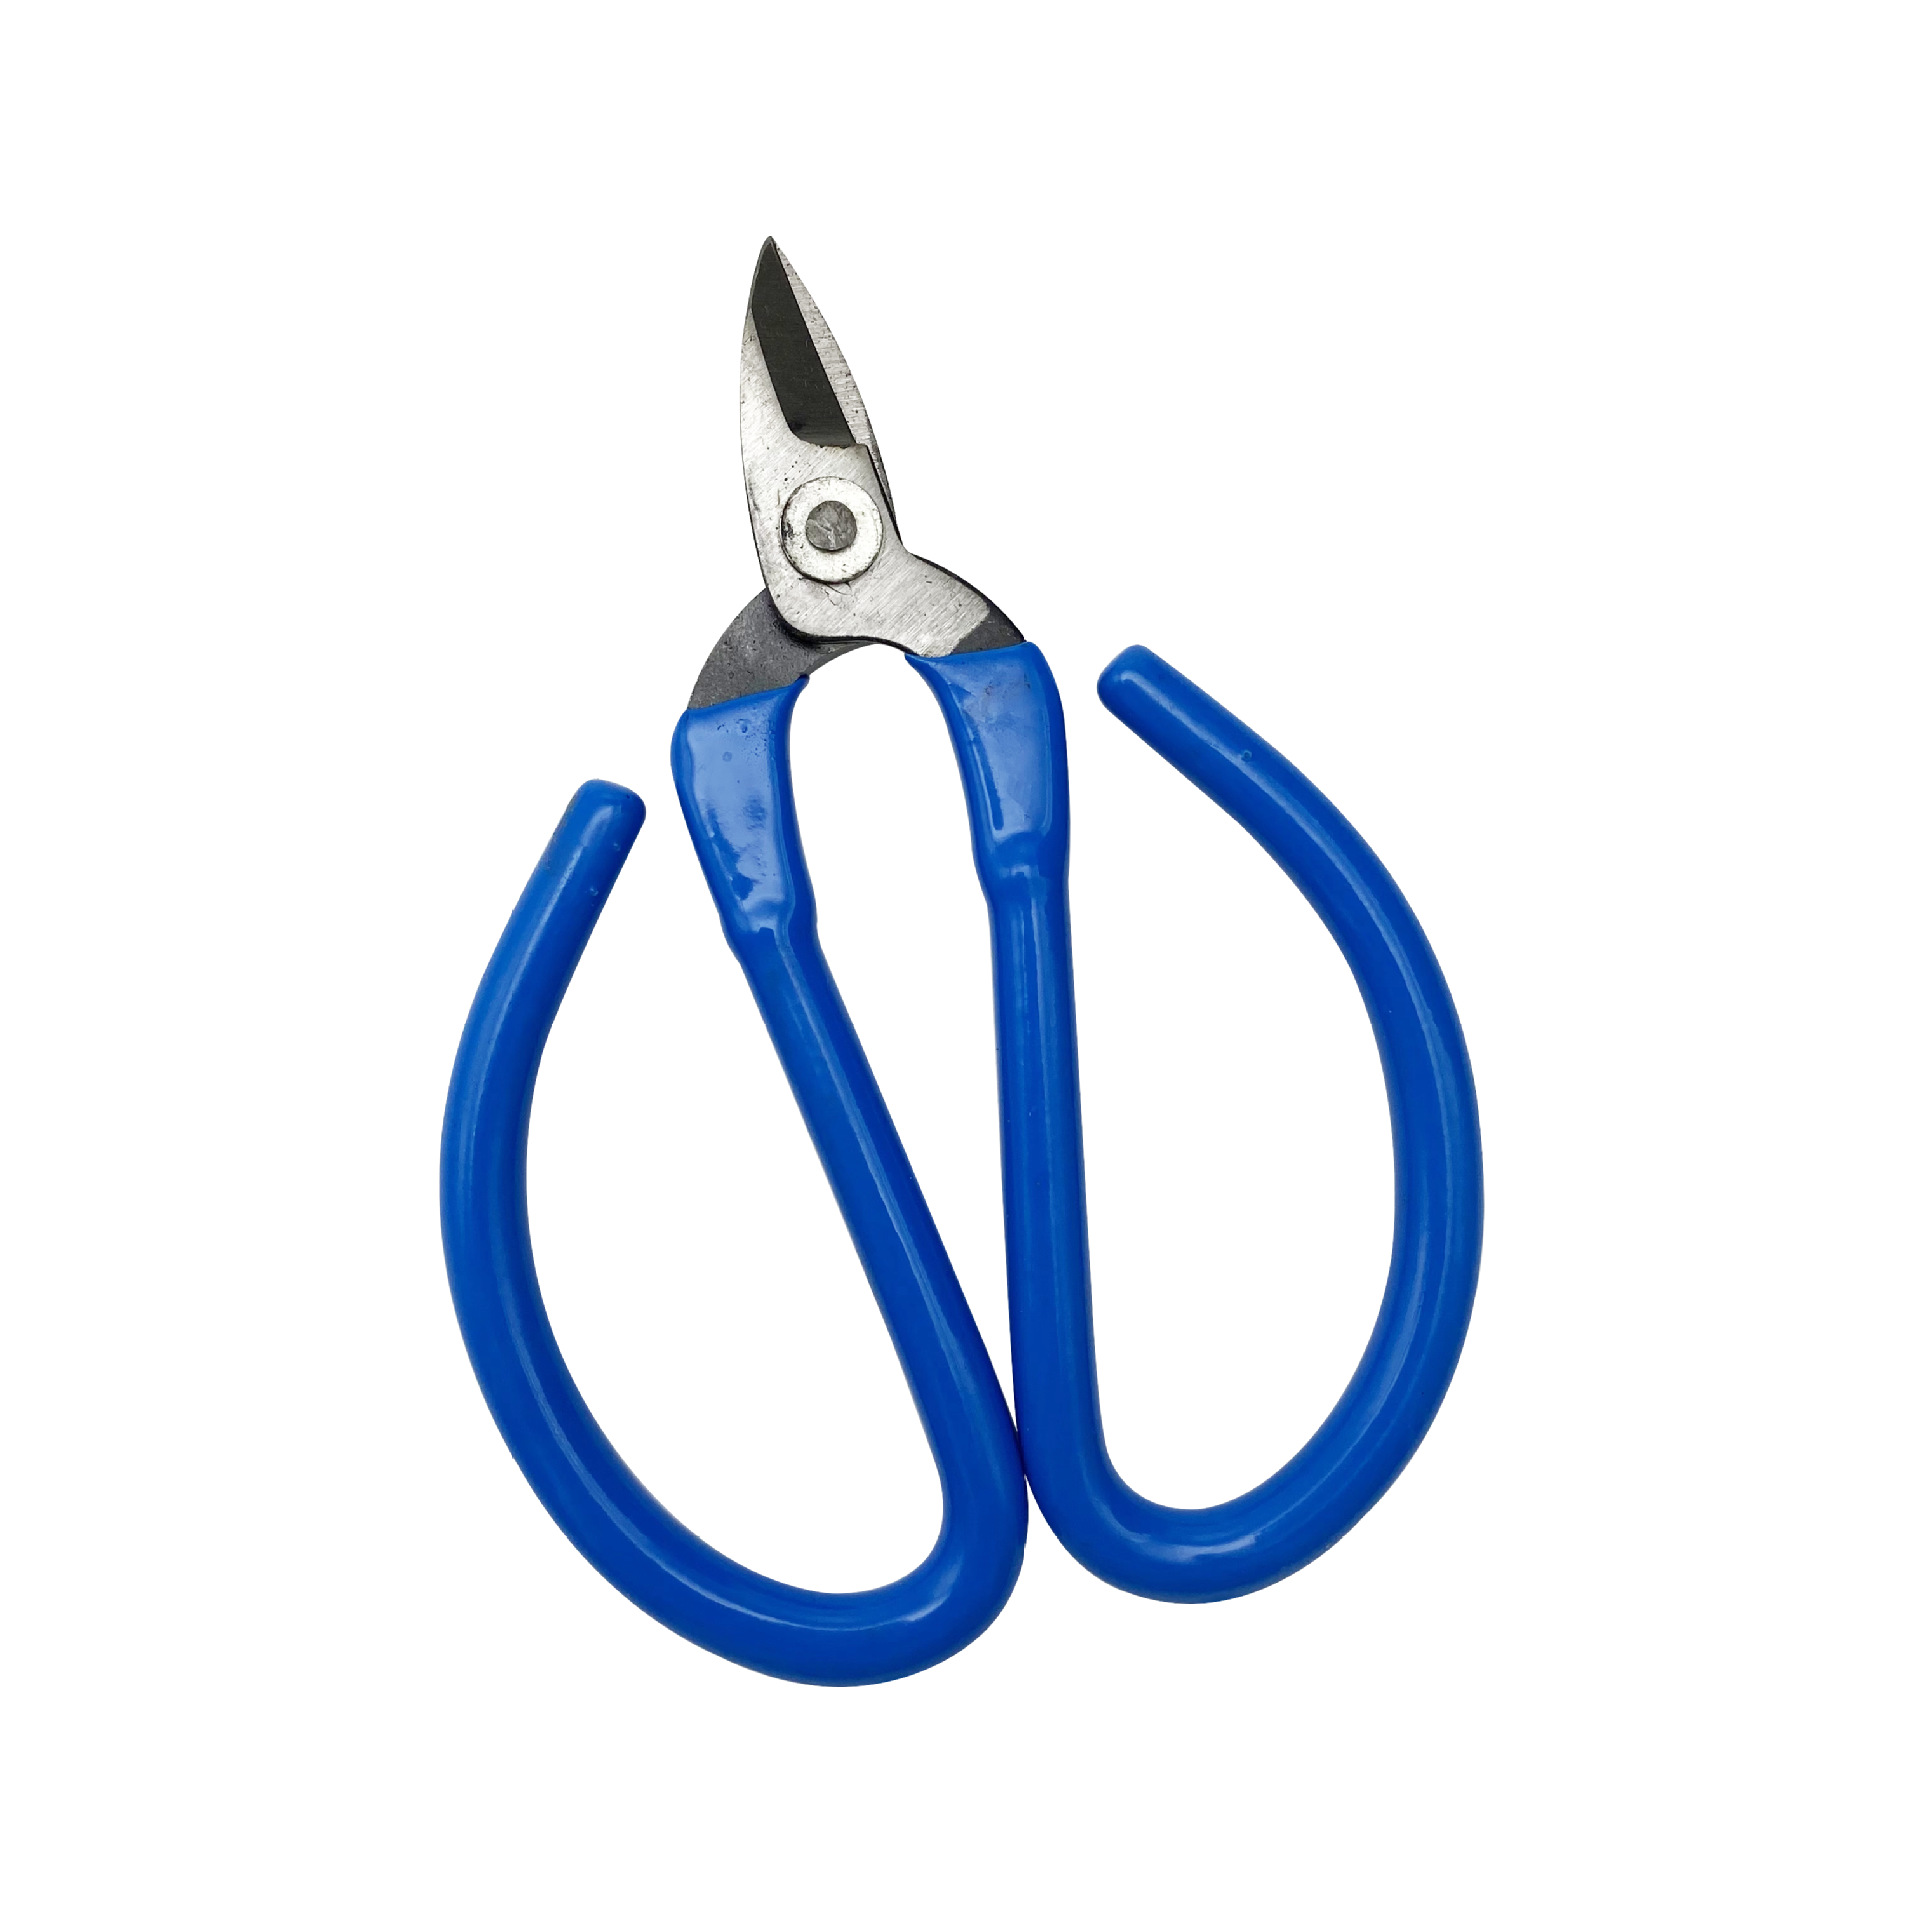scissors: (397, 222, 1538, 1714)
